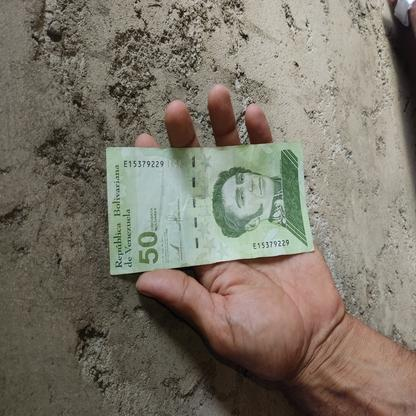fifty-front-vef: (106, 141, 314, 275)
